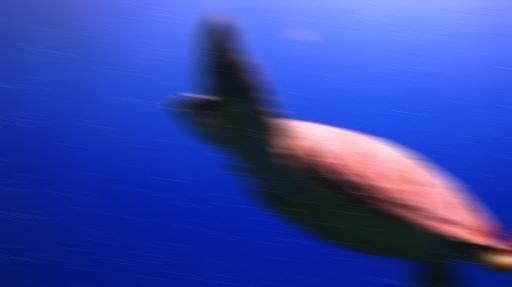Fish: (170, 12, 511, 286)
